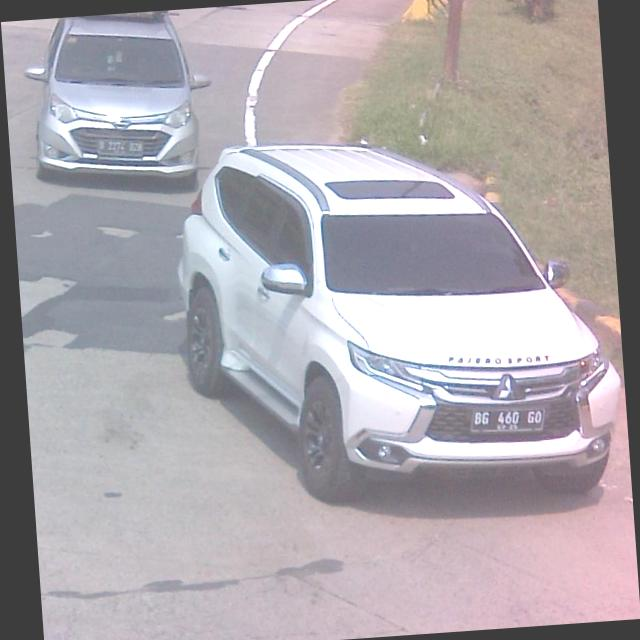plate: (465, 398, 550, 438)
